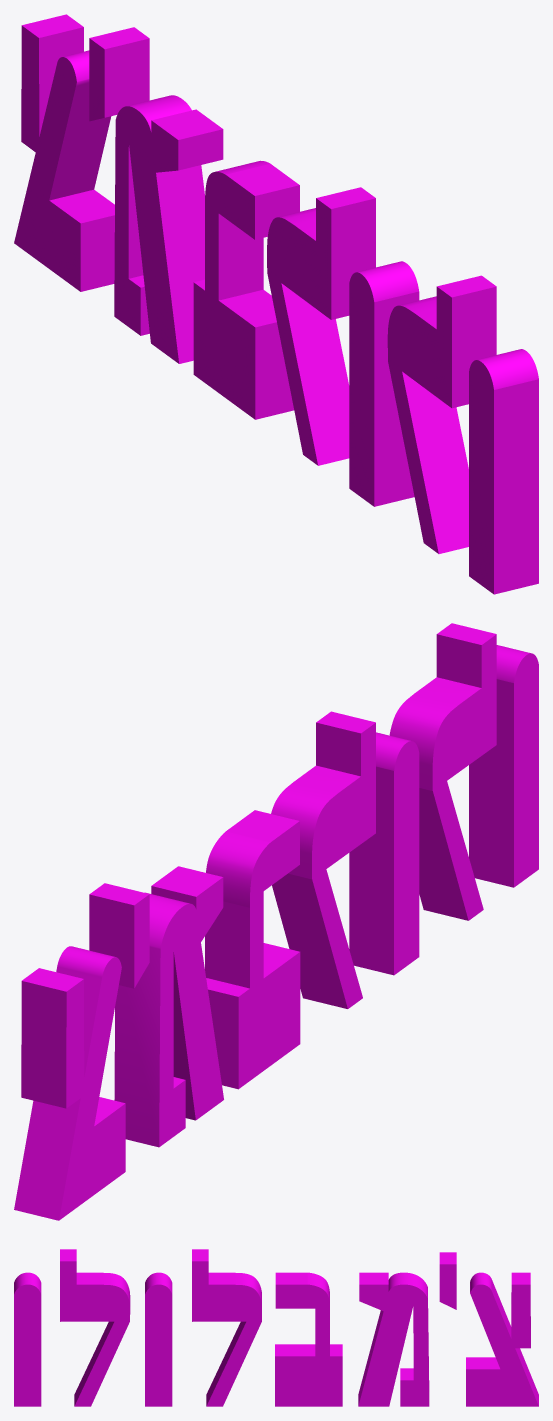
Rendered from 11_title.gltf.
3 views of the same model, one above another, from view 1: azimuth 30°, elevation 25°; view 2: azimuth 150°, elevation 25°; view 3: azimuth 270°, elevation 25° (orthographic). The views are drawn at different scales.
Visible parts, largest first — view 1: Cap 1 (×8), כתום.3, כתום.1, כתום.5, כתום.6, כתום, כתום.4, כתום.2, נפח.1; view 2: Cap 1 (×8), כתום.6, כתום.5, כתום.3, כתום.4, כתום.1, כתום.2, כתום, נפח.1; view 3: Cap 2 (×8), כתום.6, כתום.5, כתום.1, כתום.3, כתום.4, כתום, כתום.2, נפח.1.
Part boxes in pixels (x1=…): Cap 1 (×8): x1=14, y1=25, x2=493, y2=594; כתום.3: x1=278, y1=187, x2=375, y2=465; כתום.1: x1=399, y1=275, x2=496, y2=553; כתום.5: x1=127, y1=95, x2=223, y2=363; כתום.6: x1=22, y1=14, x2=114, y2=291; כתום: x1=477, y1=349, x2=538, y2=594; כתום.4: x1=194, y1=160, x2=299, y2=419; כתום.2: x1=357, y1=261, x2=419, y2=506; נפח.1: x1=89, y1=27, x2=149, y2=117; Cap 1 (×8): x1=59, y1=634, x2=538, y2=1220; כתום.6: x1=14, y1=946, x2=125, y2=1220; כתום.5: x1=114, y1=866, x2=222, y2=1147; כתום.3: x1=271, y1=711, x2=375, y2=1008; כתום.4: x1=205, y1=810, x2=299, y2=1089; כתום.1: x1=389, y1=623, x2=496, y2=920; כתום.2: x1=349, y1=732, x2=410, y2=975; כתום: x1=469, y1=645, x2=530, y2=887; נפח.1: x1=89, y1=883, x2=149, y2=988; Cap 2 (×8): x1=14, y1=1261, x2=538, y2=1406; כתום.6: x1=466, y1=1272, x2=538, y2=1405; כתום.5: x1=358, y1=1272, x2=429, y2=1405; כתום.1: x1=60, y1=1249, x2=130, y2=1405; כתום.3: x1=192, y1=1249, x2=261, y2=1405; כתום.4: x1=275, y1=1272, x2=342, y2=1356; כתום: x1=14, y1=1272, x2=41, y2=1293; כתום.2: x1=145, y1=1272, x2=172, y2=1293; נפח.1: x1=439, y1=1252, x2=456, y2=1264.
Size of the model in its own units: 200 by 1132 by 3700.
